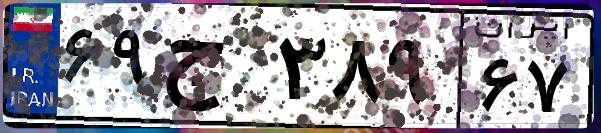3: (270, 28, 330, 110)
6: (57, 26, 110, 100), (475, 38, 525, 113)
7: (525, 38, 570, 115)
8: (330, 28, 385, 110)
9: (385, 28, 445, 110), (110, 28, 158, 98)
ج: (158, 20, 270, 120)
